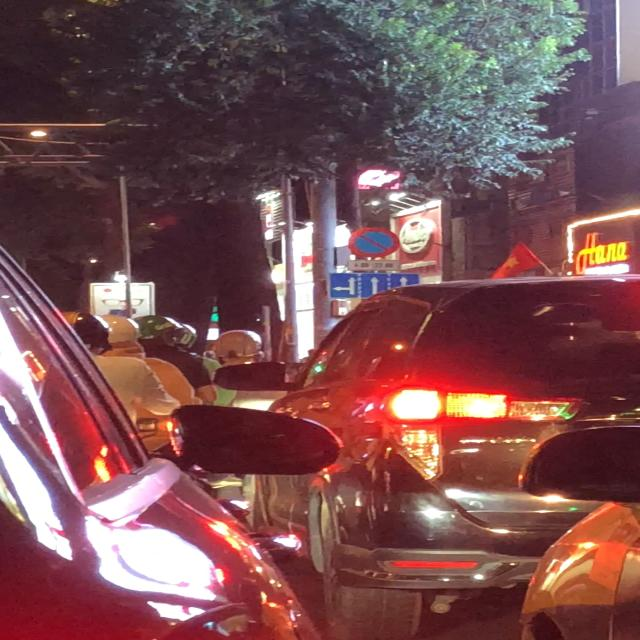Bien bao cam do xe: (344, 227, 404, 260)
